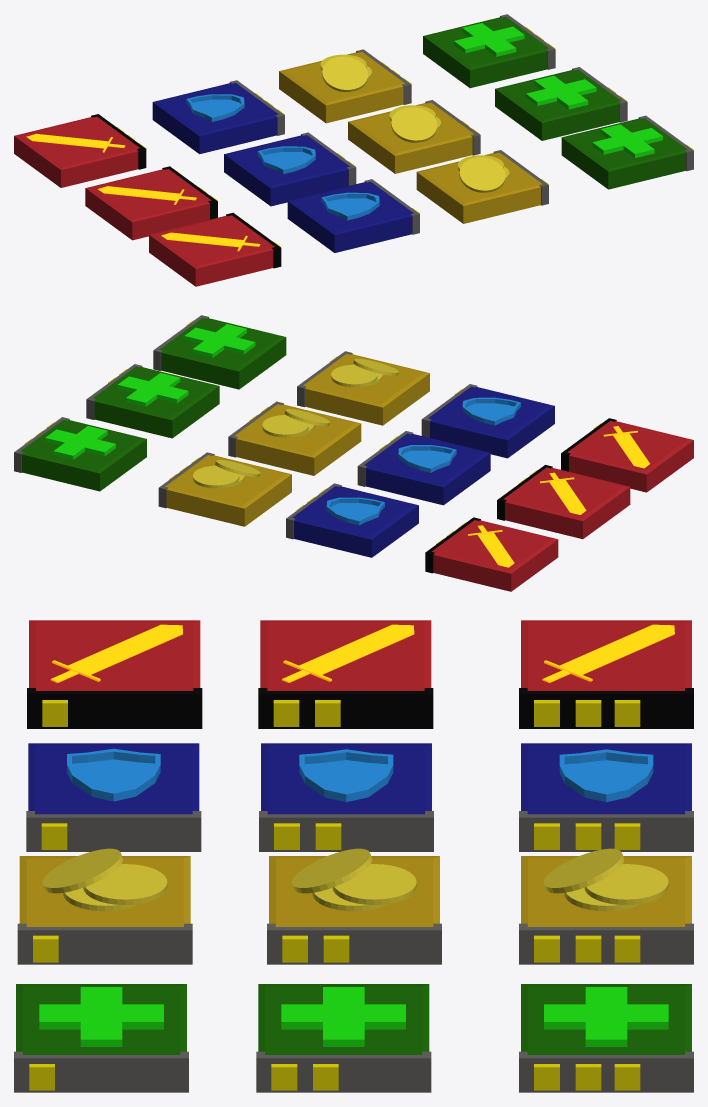
Rendered from Store.fbx.
3 renders of one model, top to bottom at view 1: azimuth 30°, elevation 25°; view 2: azimuth 150°, elevation 25°; view 3: azimuth 270°, elevation 25°, orthographic. The views are drawn at different scales.
Visible parts, largest first — view 1: MoneySector3ForShop, MoneySector2ForShop, MoneySector1ForShop, AttackSector3ForShop, HealSector3ForShop, ShieldSector3ForShop, HealSector2ForShop, HealSector1ForShop, AttackSector1ForShop, ShieldSector1ForShop, ShieldSector2ForShop, AttackSector2ForShop; view 2: AttackSector3ForShop, MoneySector3ForShop, HealSector2ForShop, MoneySector2ForShop, AttackSector2ForShop, ShieldSector2ForShop, HealSector1ForShop, ShieldSector3ForShop, HealSector3ForShop, MoneySector1ForShop, ShieldSector1ForShop, AttackSector1ForShop; view 3: MoneySector1ForShop, MoneySector2ForShop, MoneySector3ForShop, HealSector2ForShop, AttackSector1ForShop, AttackSector2ForShop, ShieldSector1ForShop, HealSector1ForShop, HealSector3ForShop, AttackSector3ForShop, ShieldSector2ForShop, ShieldSector3ForShop.
Boxes of the visible parts, <box> form: MoneySector3ForShop: <box>279,49,411,123</box>; MoneySector2ForShop: <box>348,100,480,173</box>; MoneySector1ForShop: <box>416,150,548,223</box>; AttackSector3ForShop: <box>14,114,146,187</box>; HealSector3ForShop: <box>423,14,555,88</box>; ShieldSector3ForShop: <box>152,80,284,154</box>; HealSector2ForShop: <box>495,67,627,140</box>; HealSector1ForShop: <box>561,115,693,189</box>; AttackSector1ForShop: <box>149,212,281,286</box>; ShieldSector1ForShop: <box>287,179,419,252</box>; ShieldSector2ForShop: <box>224,132,356,206</box>; AttackSector2ForShop: <box>85,166,217,240</box>; AttackSector3ForShop: <box>425,517,558,591</box>; MoneySector3ForShop: <box>158,452,291,526</box>; HealSector2ForShop: <box>86,364,219,438</box>; MoneySector2ForShop: <box>228,401,361,475</box>; AttackSector2ForShop: <box>497,465,630,539</box>; ShieldSector2ForShop: <box>357,431,490,505</box>; HealSector1ForShop: <box>153,315,286,389</box>; ShieldSector3ForShop: <box>286,483,418,557</box>; HealSector3ForShop: <box>14,417,146,491</box>; MoneySector1ForShop: <box>297,351,429,425</box>; ShieldSector1ForShop: <box>421,384,554,458</box>; AttackSector1ForShop: <box>561,418,693,492</box>; MoneySector1ForShop: <box>17,848,192,964</box>; MoneySector2ForShop: <box>267,848,441,964</box>; MoneySector3ForShop: <box>519,848,693,964</box>; HealSector2ForShop: <box>256,984,431,1092</box>; AttackSector1ForShop: <box>27,620,202,728</box>; AttackSector2ForShop: <box>258,620,433,728</box>; ShieldSector1ForShop: <box>26,743,201,851</box>; HealSector1ForShop: <box>14,984,188,1092</box>; HealSector3ForShop: <box>519,984,693,1092</box>; AttackSector3ForShop: <box>519,620,693,728</box>; ShieldSector2ForShop: <box>259,743,433,851</box>; ShieldSector3ForShop: <box>519,743,693,851</box>.
Size of the model in its own units: 1371 by 96.78 by 890.
